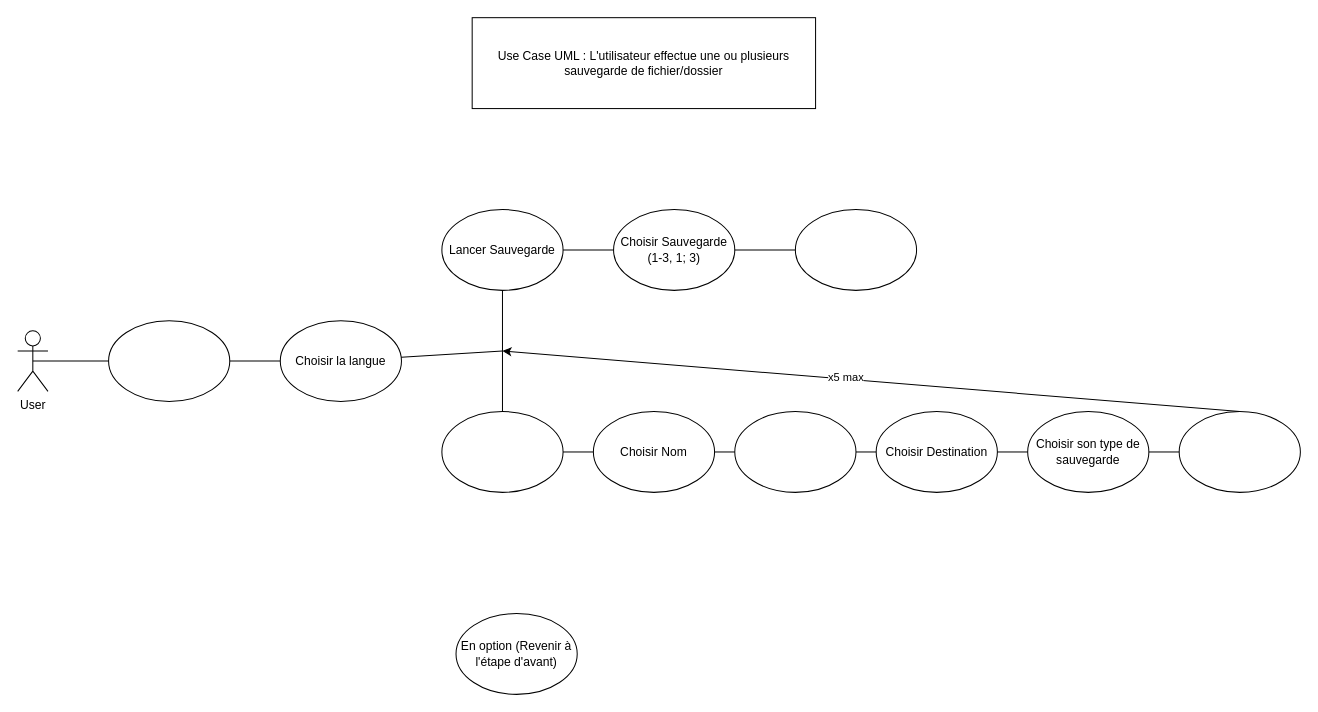
The diagram is 1318 pixels wide and 712 high, and some of its shapes have lost their labels. The shapes that lost their labels are listed below. From the top down, each one's centre as x and y in pixels, then its label:
(x=855, y=249): Confirmer lancement de la Sauvegarde
(x=169, y=360): Lancer le programme
(x=502, y=451): Créer Sauvegarde
(x=795, y=451): Choisir Source
(x=1239, y=451): Confirmer recap
